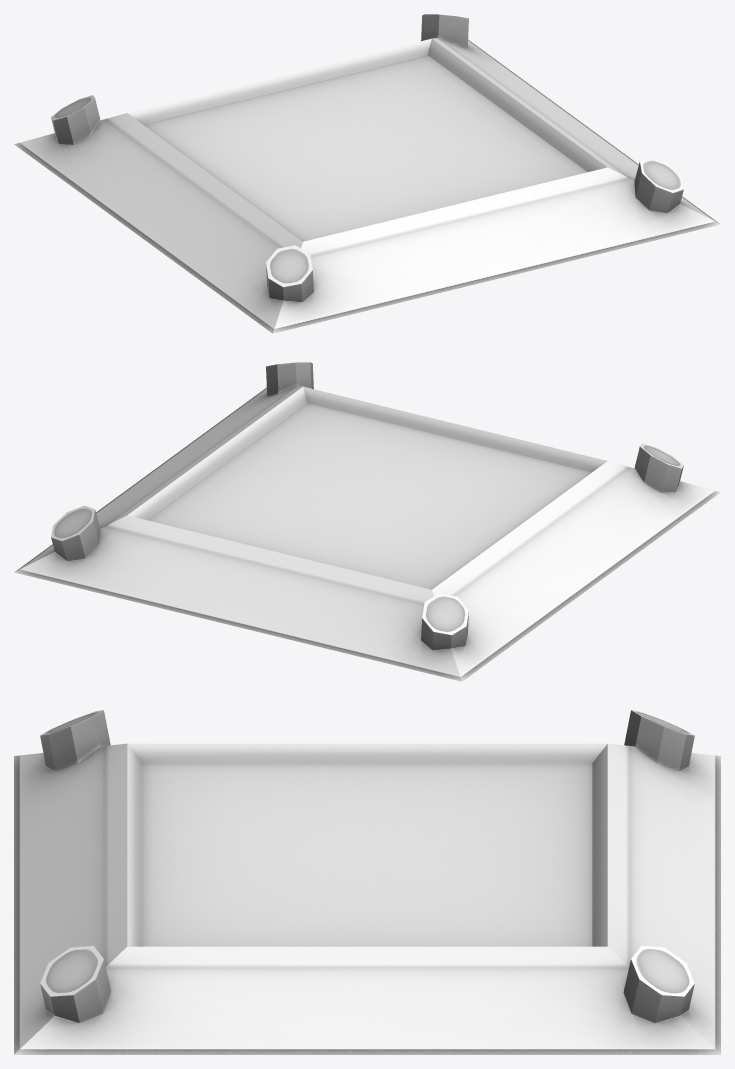
The model's file is Decal_low2.fbx.
3 views of the same model, one above another, from view 1: azimuth 30°, elevation 25°; view 2: azimuth 150°, elevation 25°; view 3: azimuth 270°, elevation 25° (orthographic). The views are drawn at different scales.
Visible parts, largest first — view 1: decal_low.002; view 2: decal_low.002; view 3: decal_low.002.
Boxes of the visible parts, <box> form: decal_low.002: <box>14,14,720,333</box>; decal_low.002: <box>14,362,720,681</box>; decal_low.002: <box>14,710,720,1054</box>.
Bounding box in the file's own units: 260 × 260 × 31.71.
